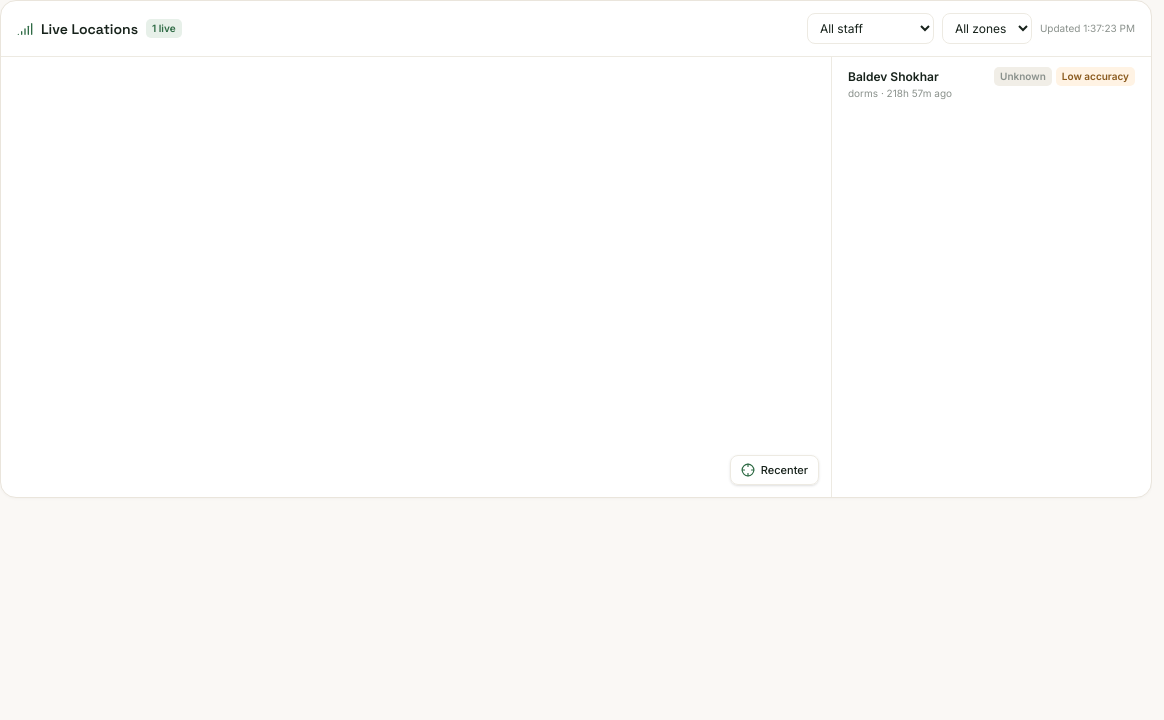
Scenario: LiveLocationMap › opens the detail panel with fix fields and quality flag
Click the button "Baldev Shokhar Unknown Low accuracy dorms · 218h 57m ago".
click(992, 84)  # box left=832, top=57, right=1151, bottom=111
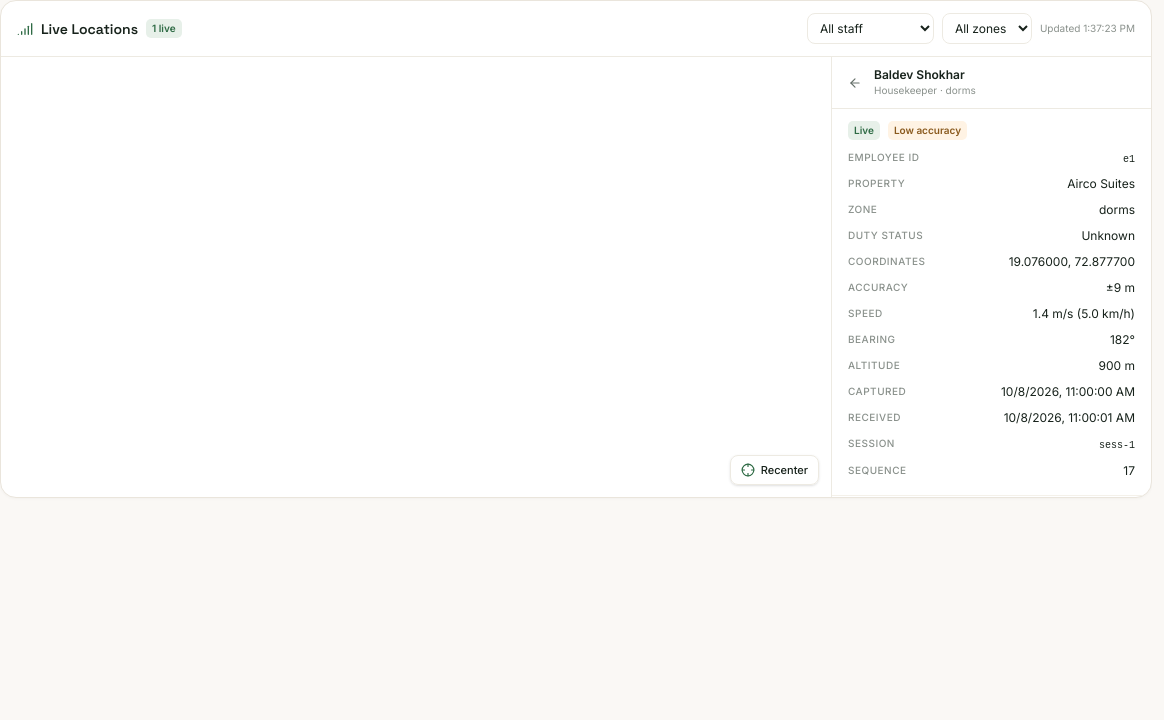
Result: the text "Live" is shown at left=848, top=121, right=880, bottom=140
Result: the text "±9 m" is shown at left=1106, top=280, right=1135, bottom=296
Result: the text "1.4 m/s (5.0 km/h)" is shown at left=1033, top=306, right=1135, bottom=322
